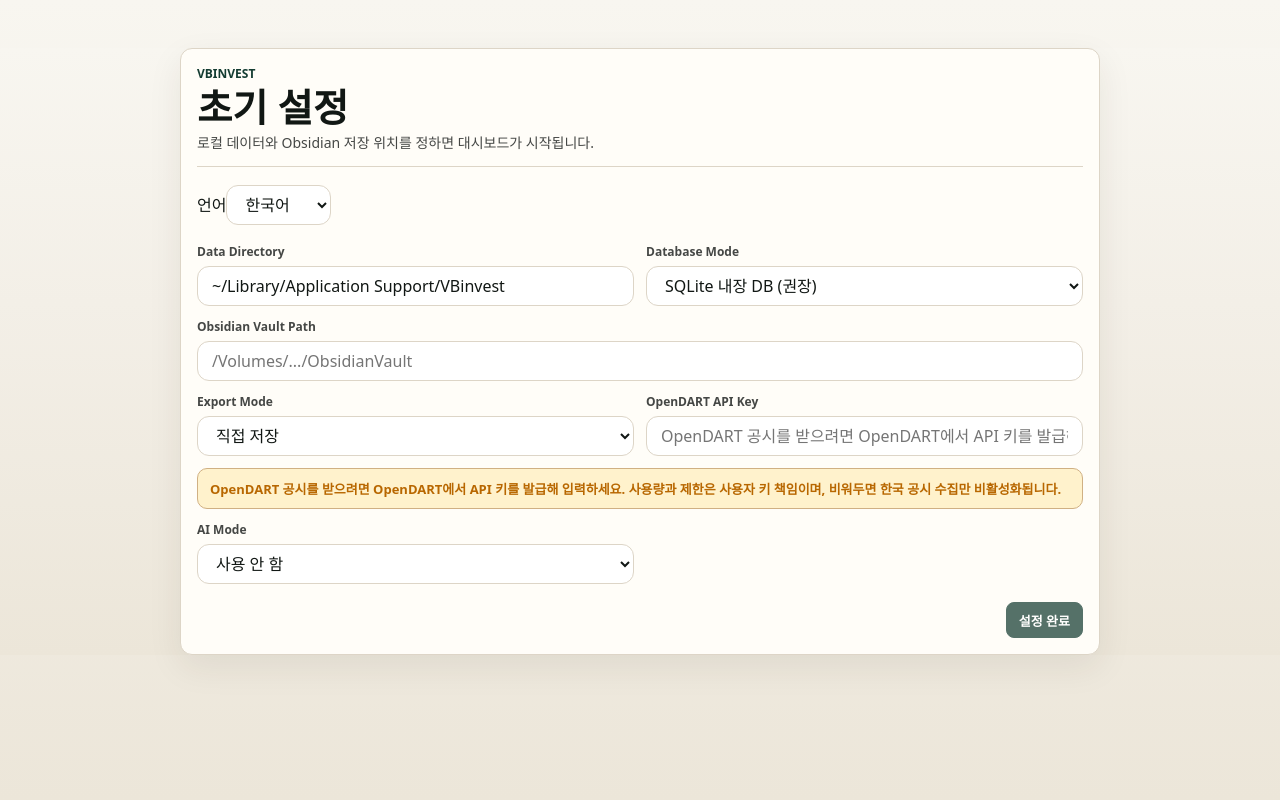
Test: SetupWizard › shows error message on API failure
Type "/bad" into the field labelled "Obsidian Vault Path". click: coordinates (640, 361)
box: 197,341 -> 1083,381
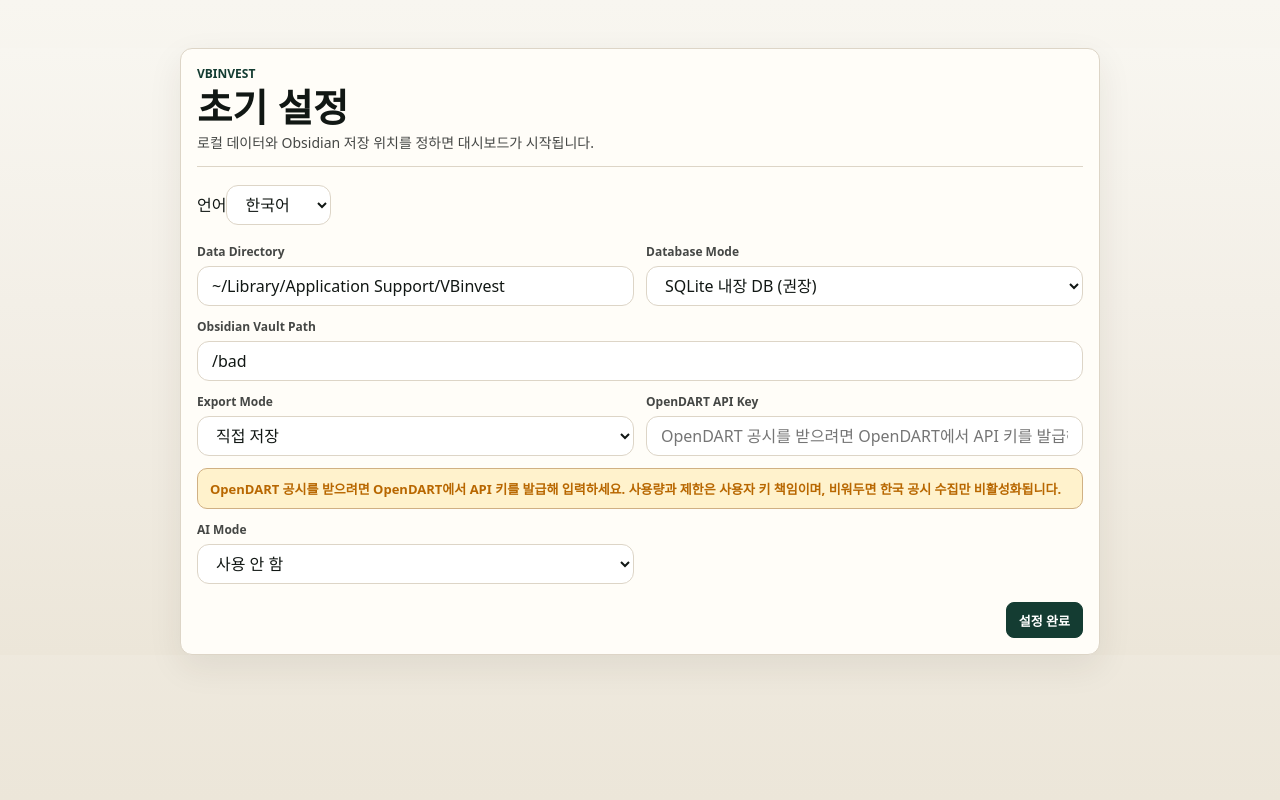
Click the button "설정 완료". click: coordinates (1044, 620)
box: 1006,602 -> 1083,638
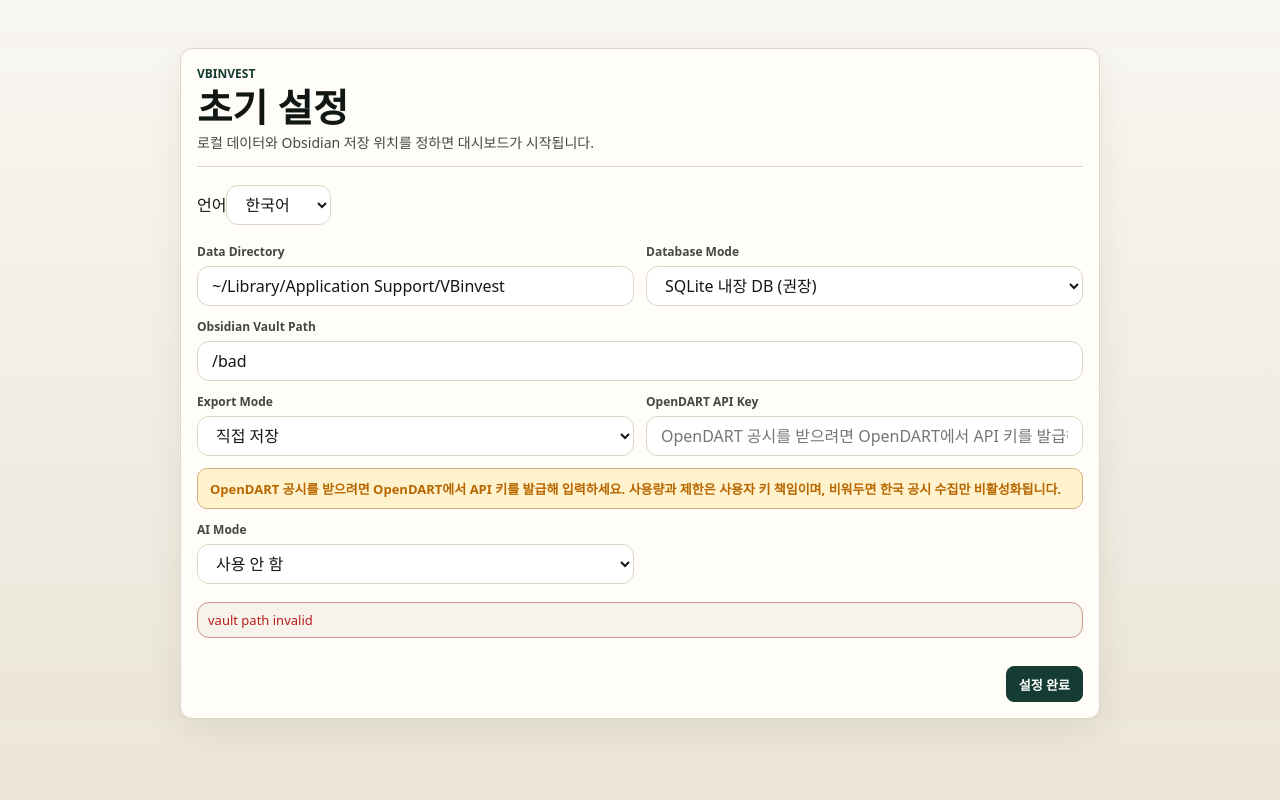
Result: the text "vault path invalid" is shown at 197,602 -> 1083,638
